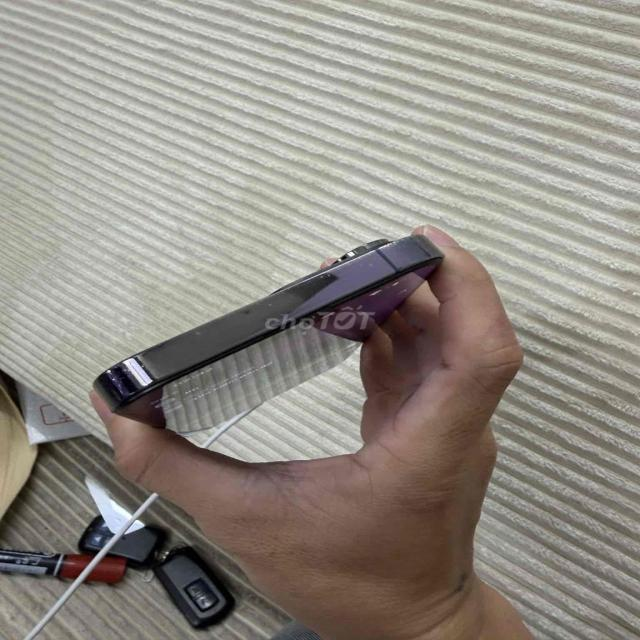gen_14: (94, 236, 442, 434)
scratch: (244, 272, 337, 308), (326, 233, 423, 266), (101, 355, 176, 397), (190, 327, 215, 341)
